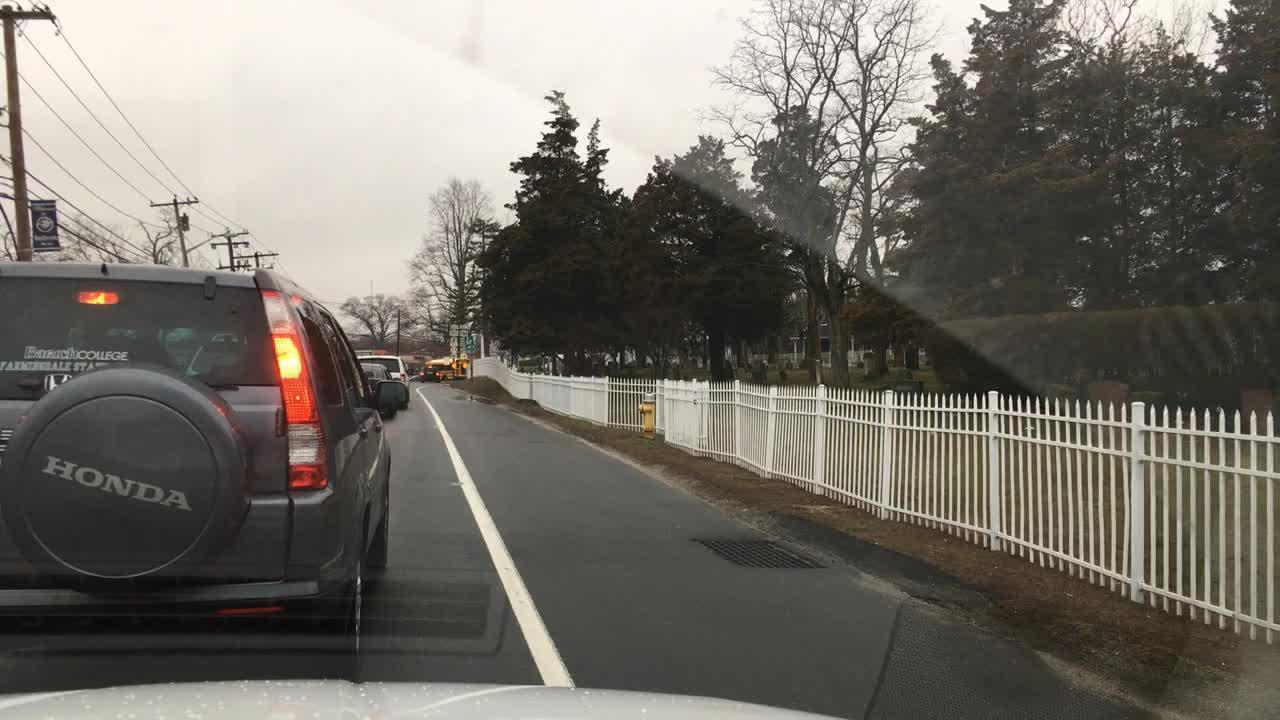Honda: (28, 449, 196, 524)
